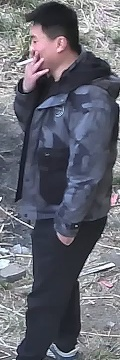smoking: (7, 6, 73, 135)
